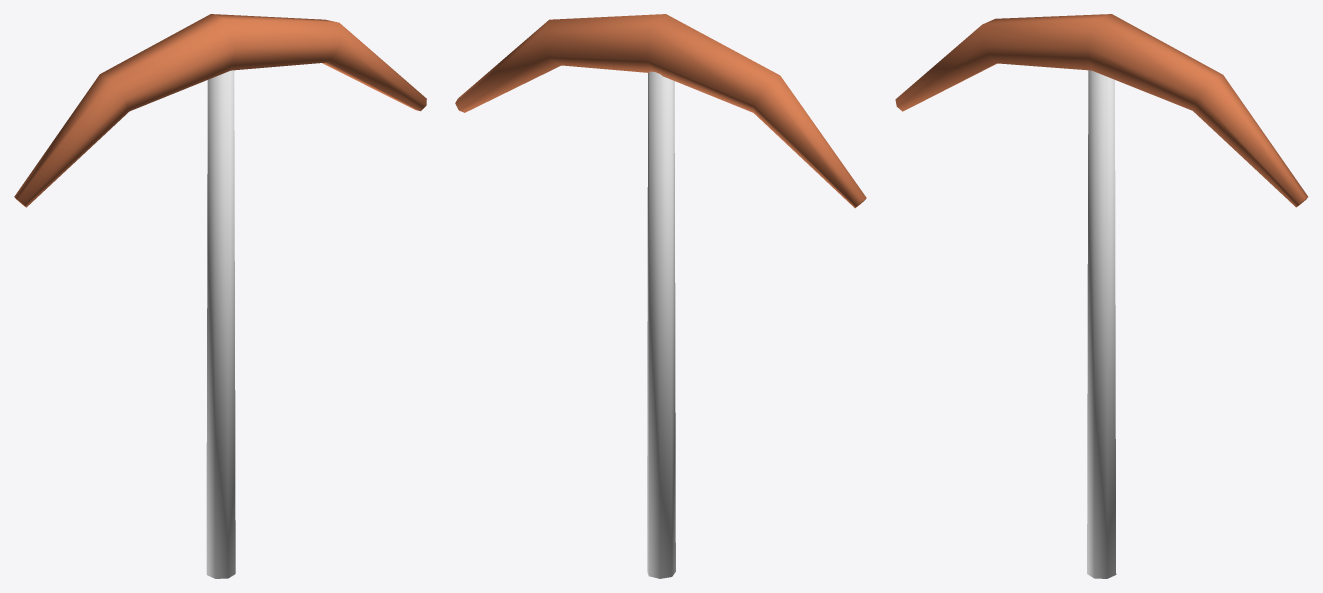
The model's file is palladium_pickaxe.glb.
3 views of the same model, side by side, from view 1: azimuth 30°, elevation 25°; view 2: azimuth 150°, elevation 25°; view 3: azimuth 330°, elevation 25° (orthographic).
Visible parts, largest first — view 1: rosalite_pickaxe_v0; view 2: rosalite_pickaxe_v0; view 3: rosalite_pickaxe_v0.
Part boxes in pixels (x1,y1,x2,y2): rosalite_pickaxe_v0: [14, 14, 426, 578]; rosalite_pickaxe_v0: [455, 14, 866, 578]; rosalite_pickaxe_v0: [895, 14, 1307, 578].
Size of the model in its own units: 0.6949 by 0.9026 by 0.0883.
